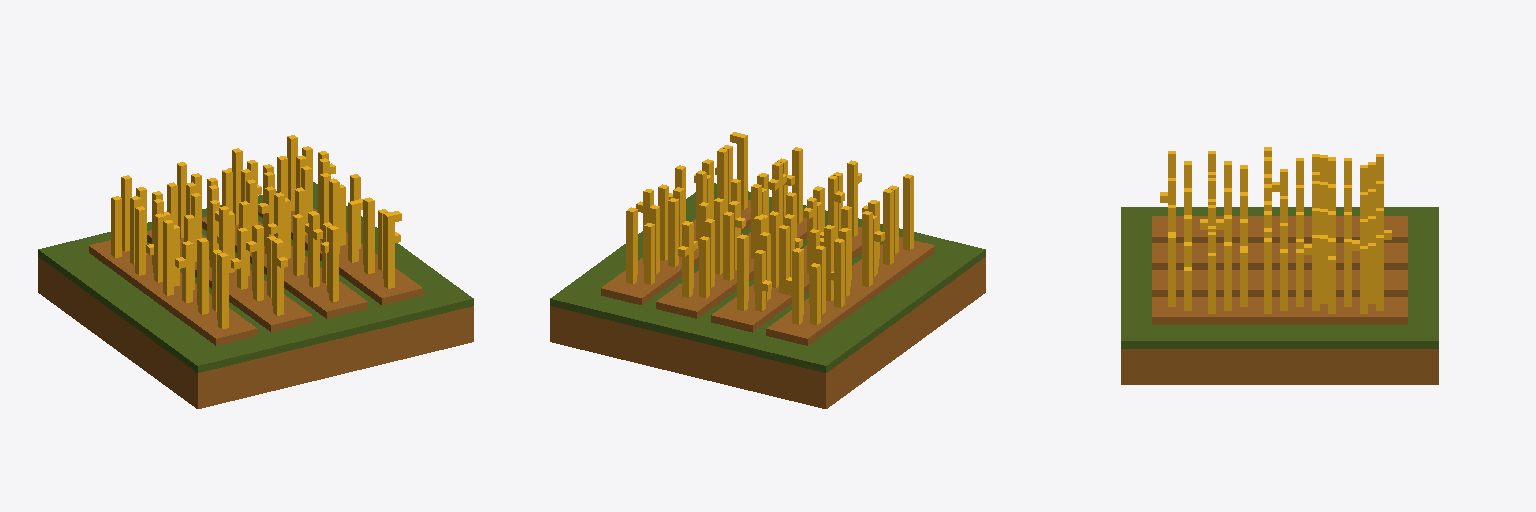
3 views of the same model, side by side, from view 1: azimuth 30°, elevation 25°; view 2: azimuth 150°, elevation 25°; view 3: azimuth 270°, elevation 25° (orthographic).
Visible parts, largest first — view 1: object 1; view 2: object 1; view 3: object 1.
Part boxes in pixels (left/top/right/bottom): object 1: left=38, top=135, right=473, bottom=408; object 1: left=550, top=132, right=985, bottom=408; object 1: left=1121, top=147, right=1438, bottom=384.
Bounding box in the file's own units: 4 × 1.7 × 4.
1 materials, 1 textured.